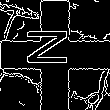N_E: (30, 35, 80, 75)
